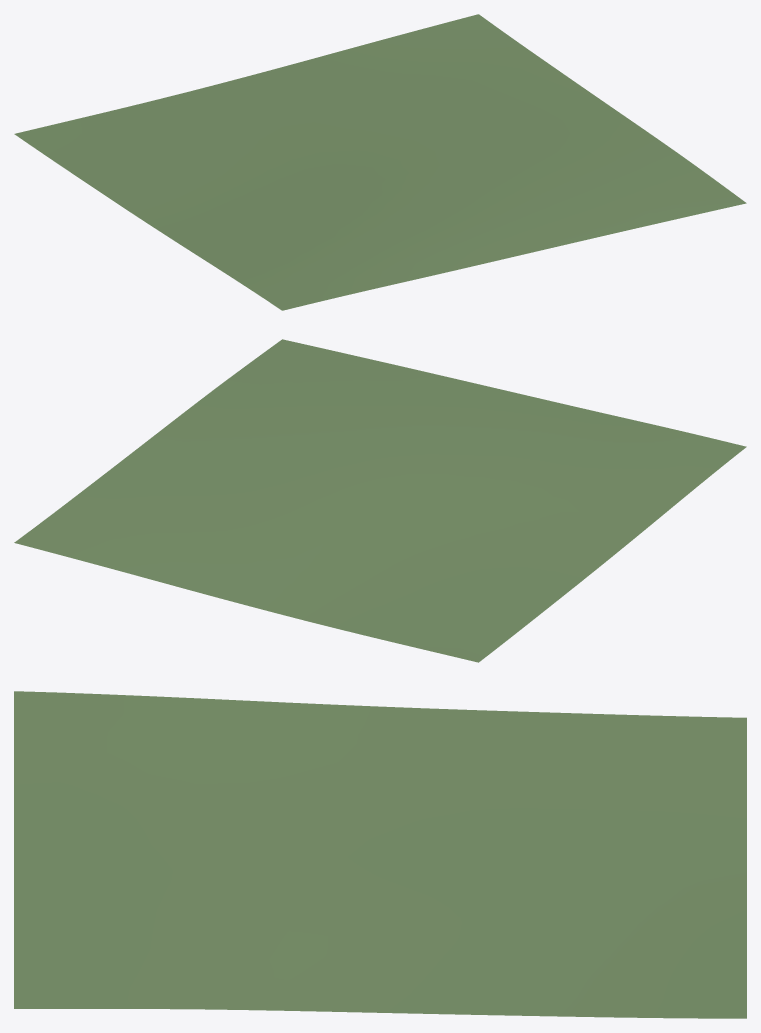
The model's file is floor_001_chunk_x-03_z+17_collision.glb.
The picture shows the model from 3 angles, top to bottom: view 1: azimuth 30°, elevation 25°; view 2: azimuth 150°, elevation 25°; view 3: azimuth 270°, elevation 25°; orthographic projection. The views are drawn at different scales.
Visible parts, largest first — view 1: floor_001_chunk_x-03_z+17_collision; view 2: floor_001_chunk_x-03_z+17_collision; view 3: floor_001_chunk_x-03_z+17_collision.
Boxes of the visible parts, x1,y1,x2,y2 form: floor_001_chunk_x-03_z+17_collision: (14, 14, 746, 310); floor_001_chunk_x-03_z+17_collision: (14, 339, 746, 662); floor_001_chunk_x-03_z+17_collision: (14, 691, 746, 1018).
Bounding box in the file's own units: 256 × 10.62 × 256.
